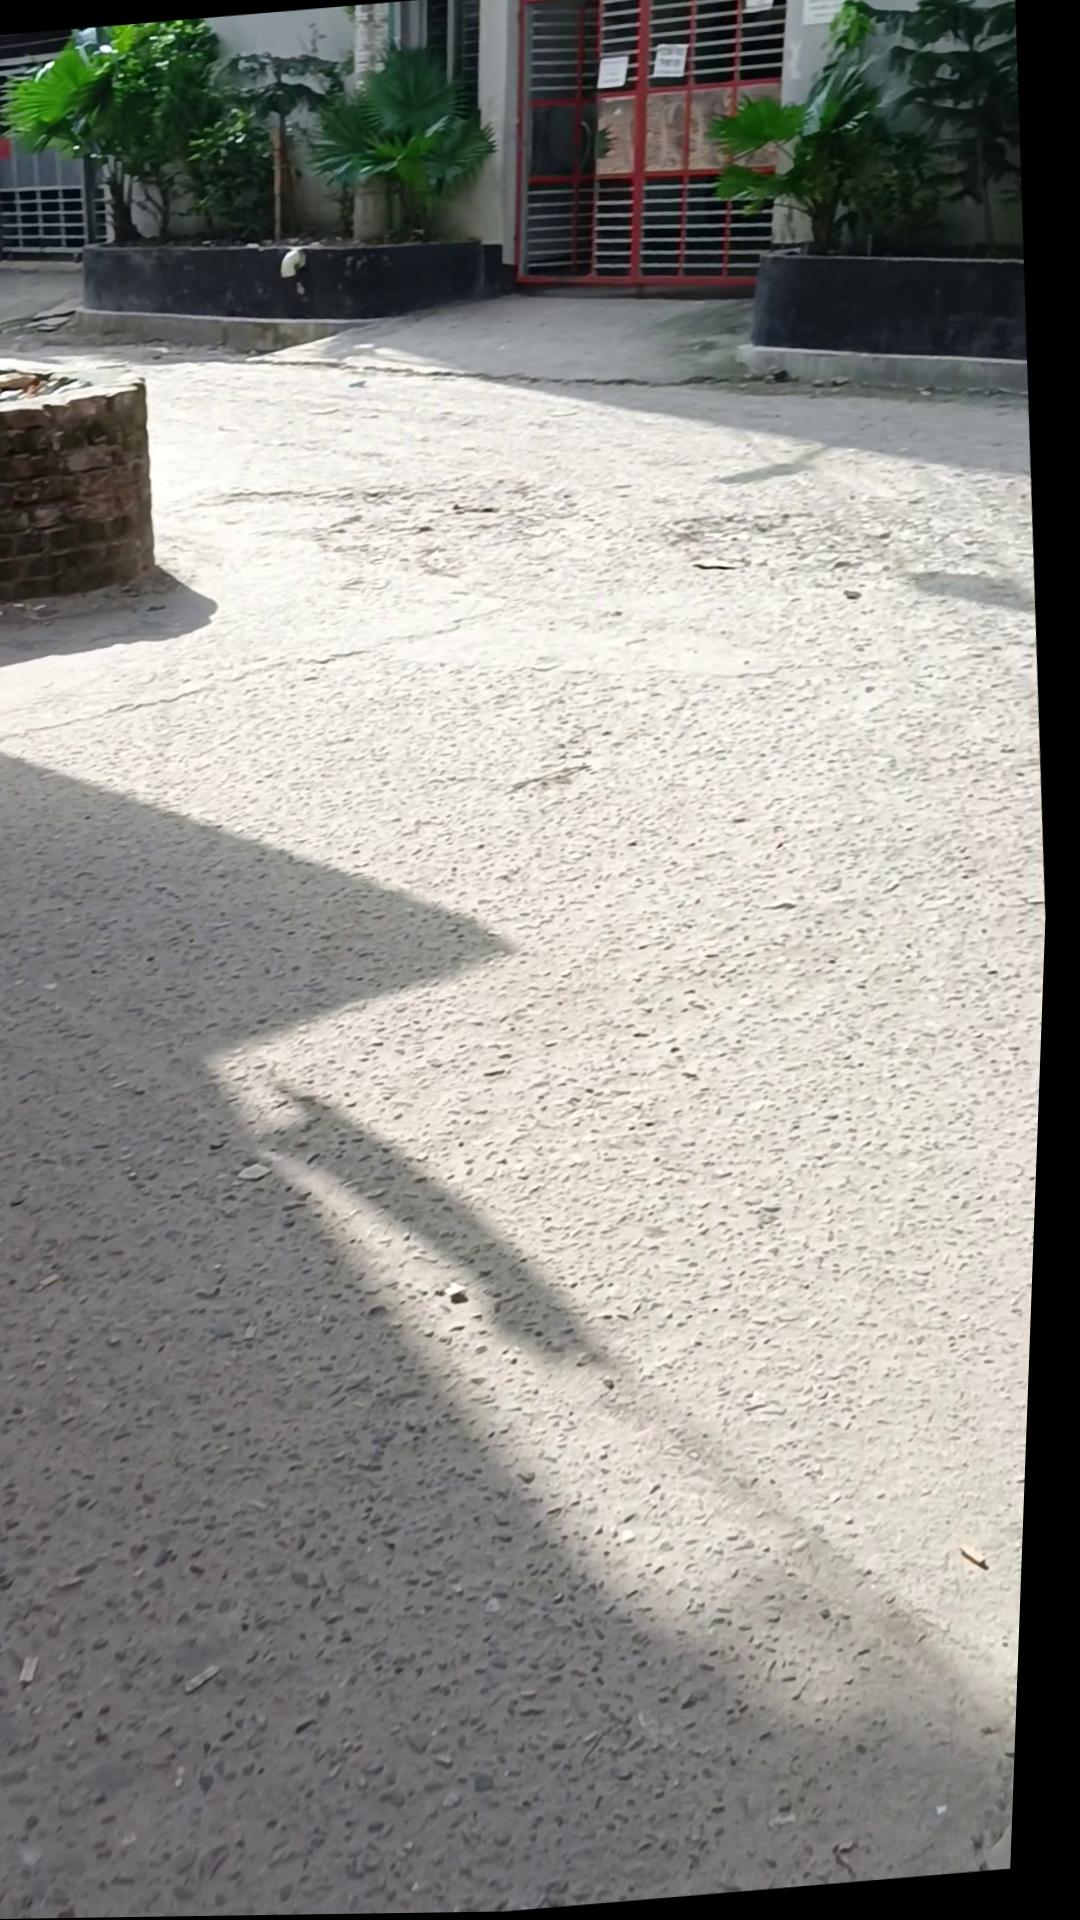Crosswalk: (70, 206, 514, 349), (729, 228, 1034, 421), (733, 320, 1031, 422)
Pole: (684, 0, 1040, 414)
Tree: (0, 339, 167, 611)
